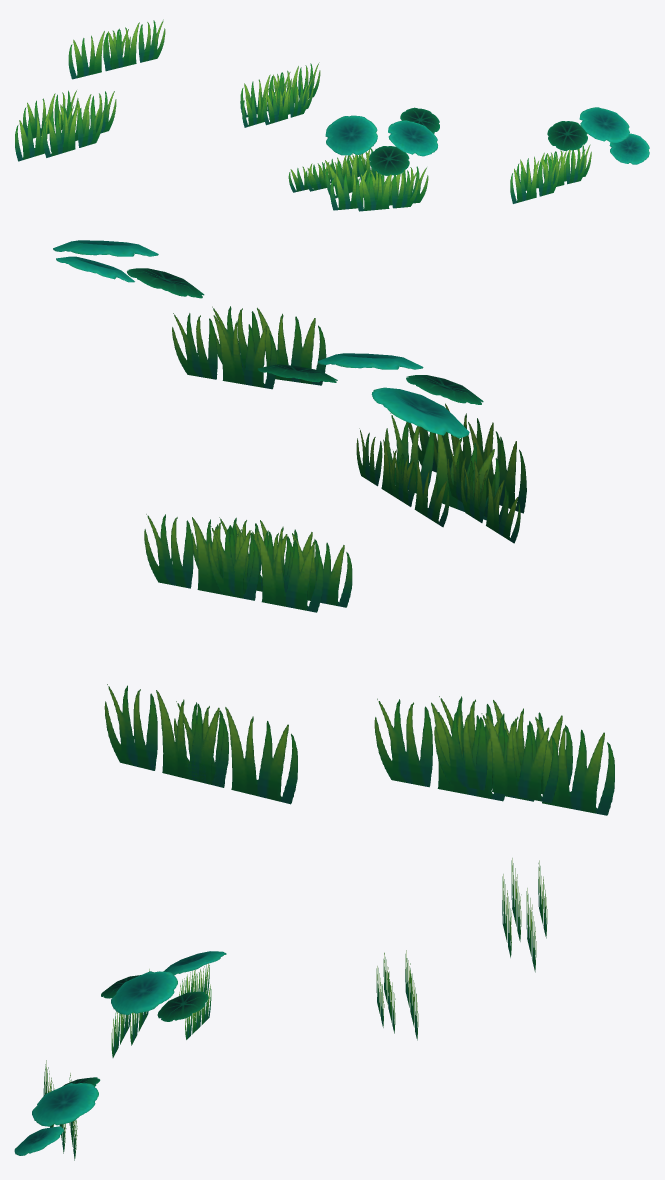
The model's file is foreground-grass-patch.glb.
The picture shows the model from 3 angles, top to bottom: view 1: azimuth 30°, elevation 25°; view 2: azimuth 150°, elevation 25°; view 3: azimuth 270°, elevation 25°; orthographic projection. The views are drawn at different scales.
Visible parts, largest first — view 1: Minimassyurumu49__mAquariumPlant; view 2: Minimassyurumu49__mAquariumPlant; view 3: Minimassyurumu49__mAquariumPlant.
Boxes of the visible parts, box(x1,y1,x2,y2) form: Minimassyurumu49__mAquariumPlant: box(15, 19, 649, 211); Minimassyurumu49__mAquariumPlant: box(53, 240, 614, 815); Minimassyurumu49__mAquariumPlant: box(14, 858, 547, 1160).
Size of the model in its own units: 1 by 0.1496 by 0.9064.
Materials: 1 (1 with a texture image).
